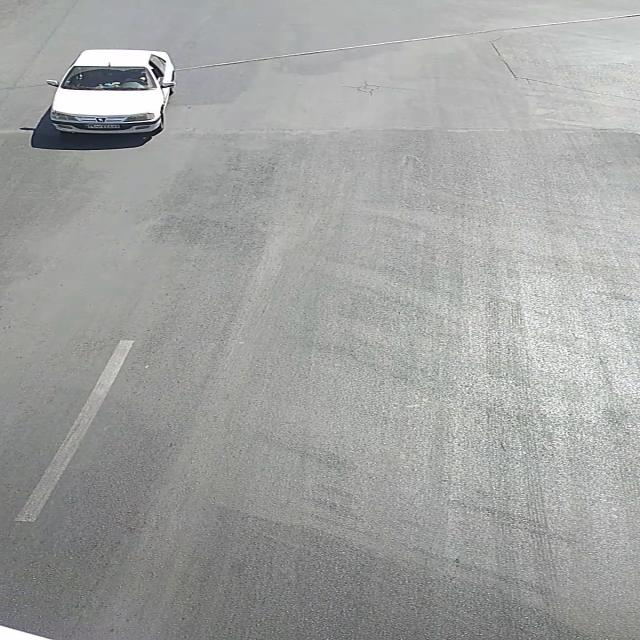car: (51, 47, 176, 136)
